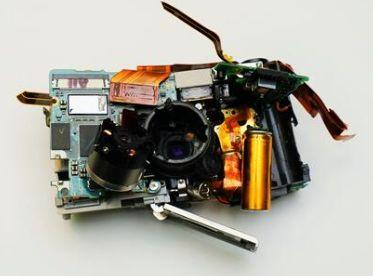electronic: (24, 62, 319, 225), (214, 62, 305, 100), (110, 68, 171, 105), (173, 67, 214, 101)
